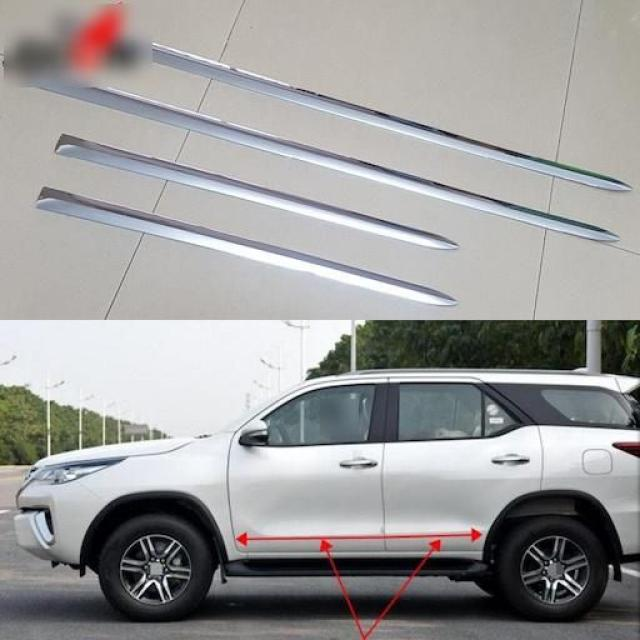back_left_door: (382, 377, 543, 552)
front_left_door: (227, 378, 389, 554)
front_right_light: (30, 457, 131, 484)
wheel: (99, 512, 609, 621)
